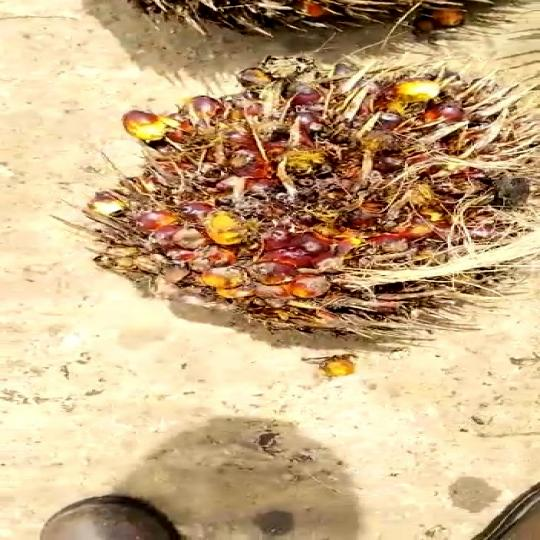terlalu masak: (90, 44, 540, 365)
